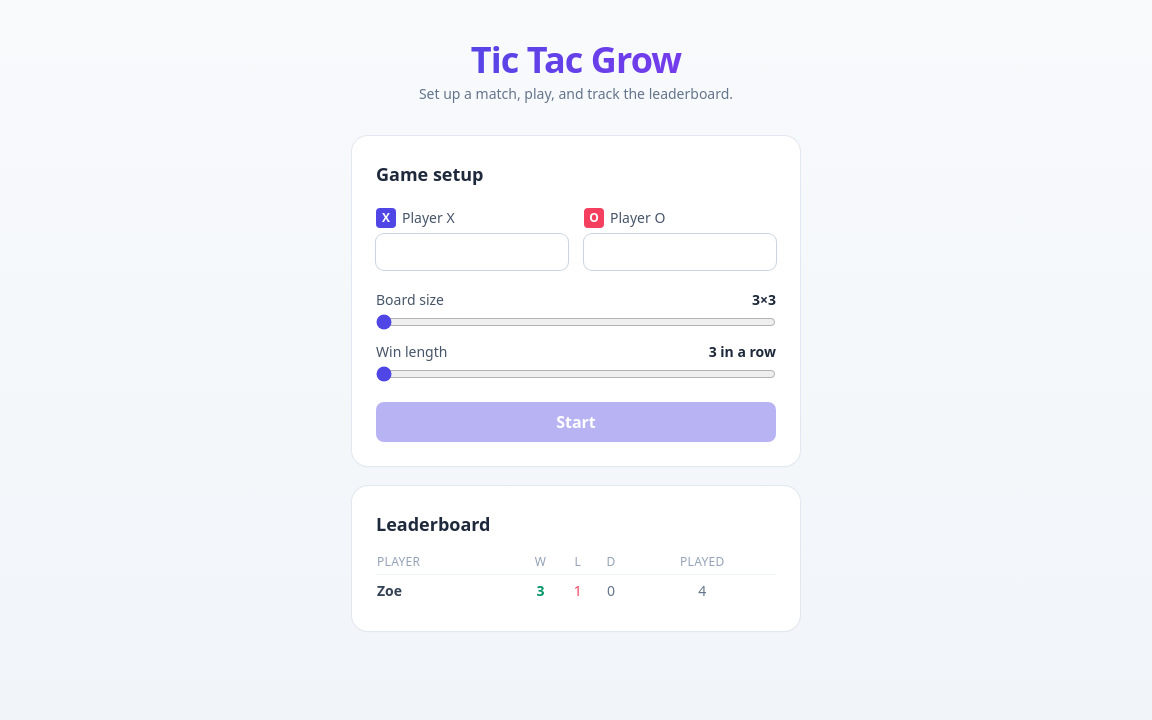
Test case: Main — playing › New game rematches and Change setup returns to setup
Expected: the text "Zoe" is shown, top-left (376, 574), bottom-right (519, 607)
Type "Ada" into the field named "Player X name". click: (472, 252)
box: top-left (376, 234), bottom-right (568, 270)
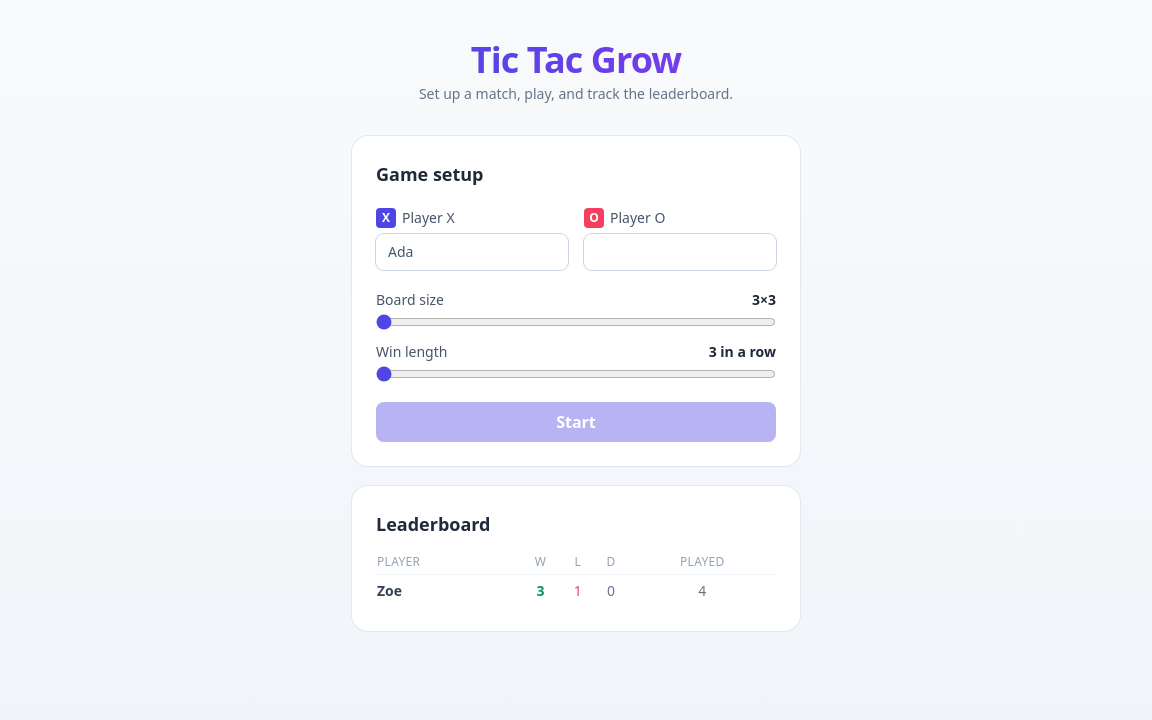
Type "Bob" into the field named "Player O name". click: (680, 252)
box: top-left (584, 234), bottom-right (776, 270)
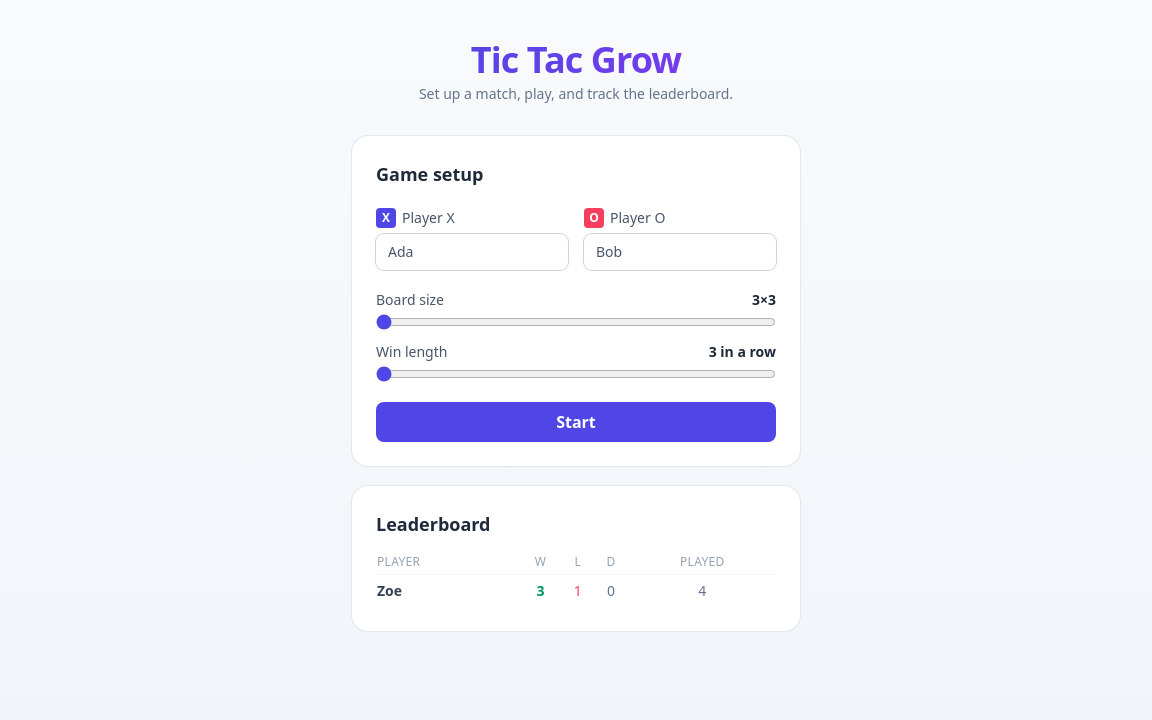
Click the button "Start". click: (576, 422)
box: top-left (376, 402), bottom-right (776, 442)
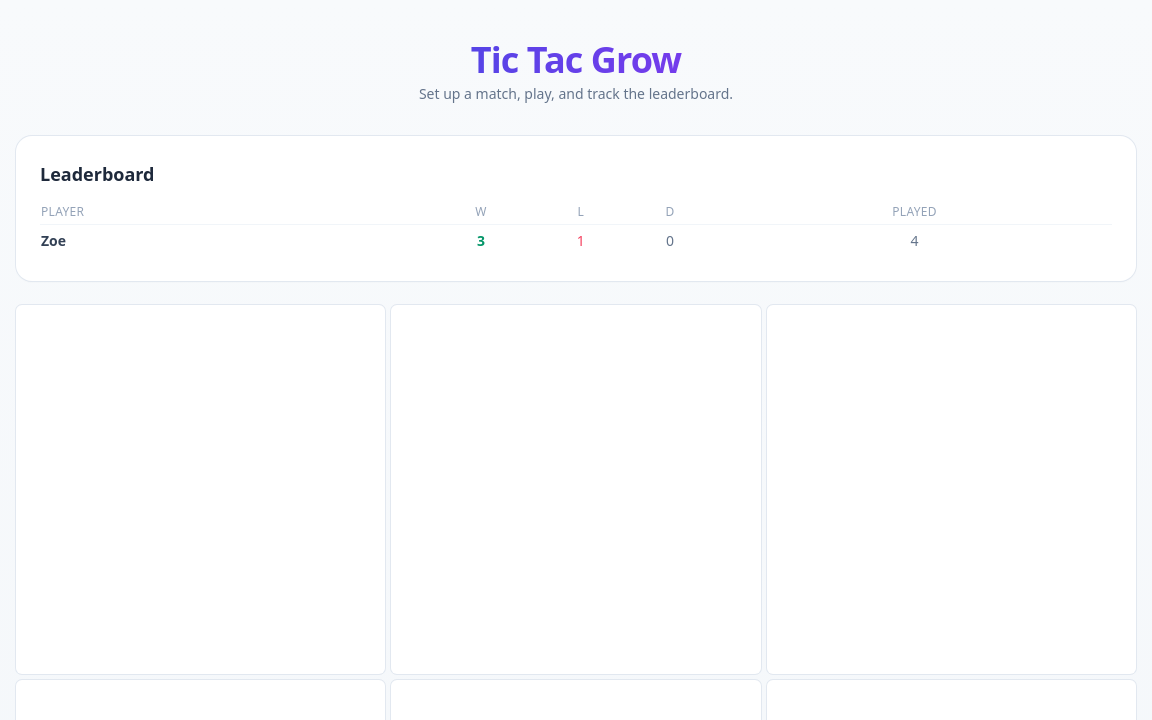
Click the 1st button. click: (201, 490)
box: top-left (16, 305), bottom-right (385, 674)
(page scrolled)
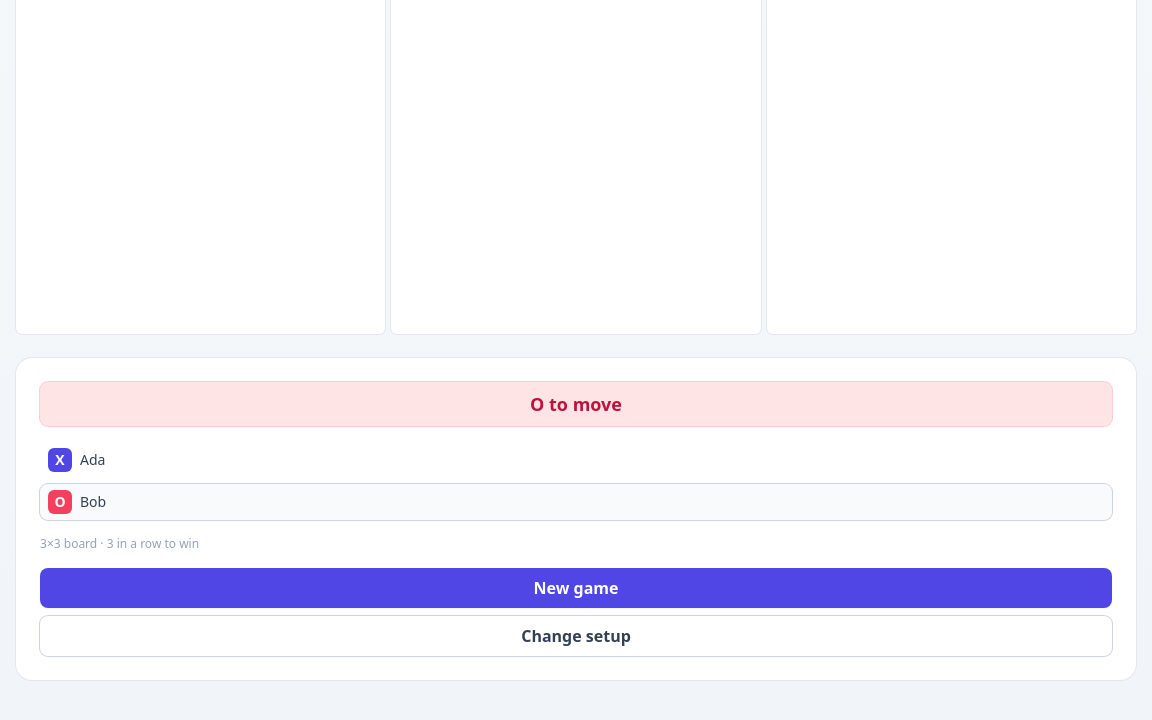
Click the button "New game". click: (576, 588)
box: top-left (40, 568), bottom-right (1112, 608)
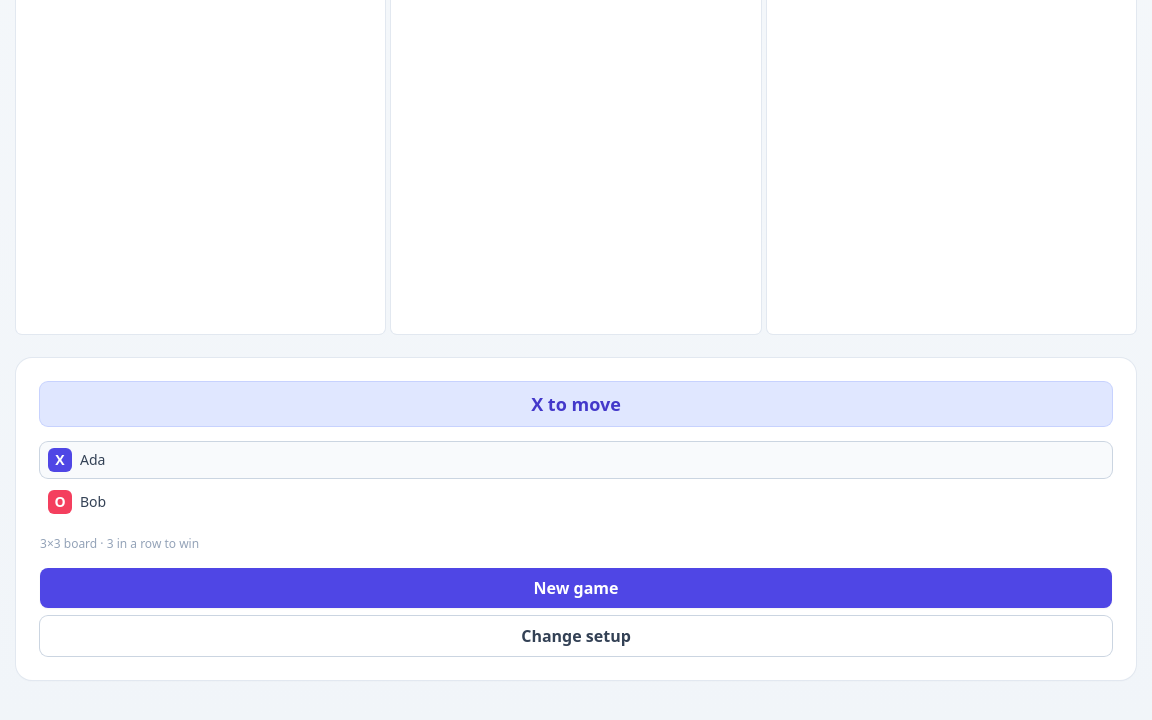
Result: the message reads "X to move" at top-left (531, 392), bottom-right (621, 416)
Click the button "Change setup". click: (576, 636)
box: top-left (40, 616), bottom-right (1112, 656)
(page scrolled)
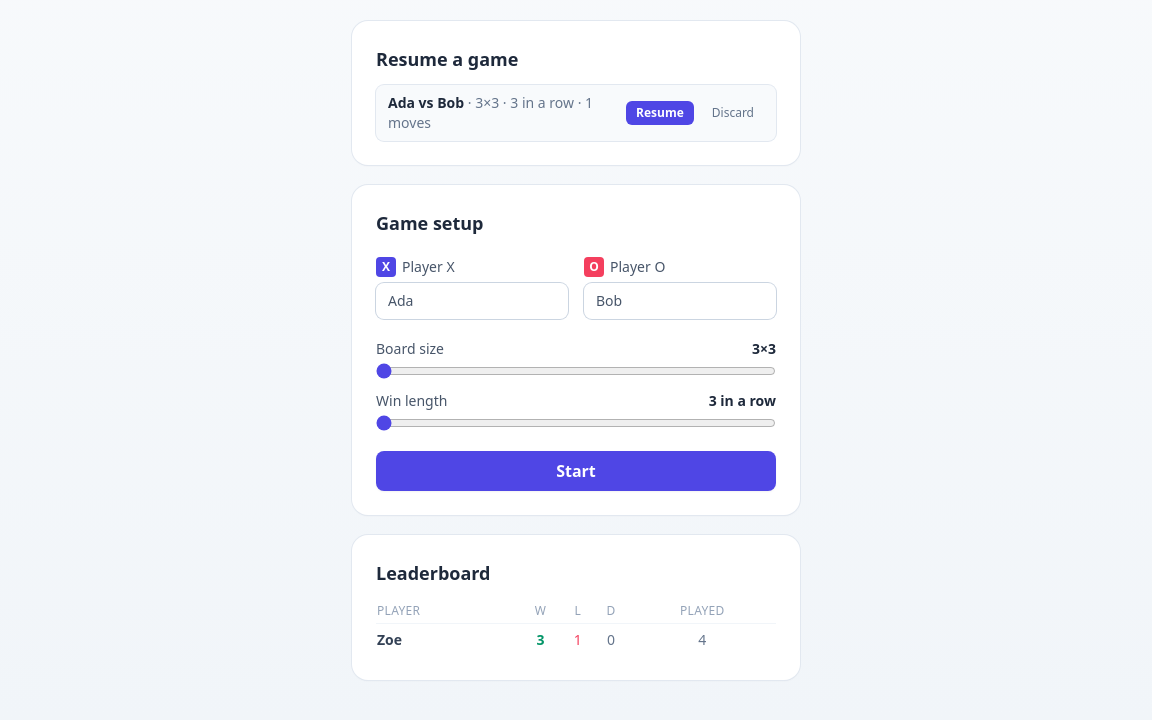
Result: the button "Start" is shown at top-left (376, 451), bottom-right (776, 491)
